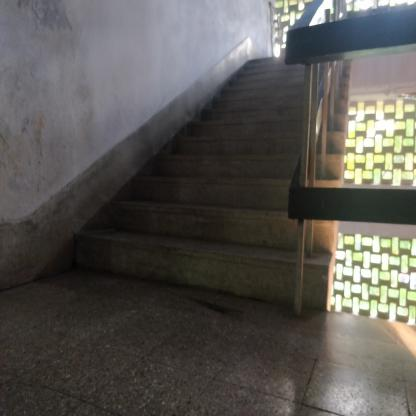stairs: (128, 176, 337, 308)
